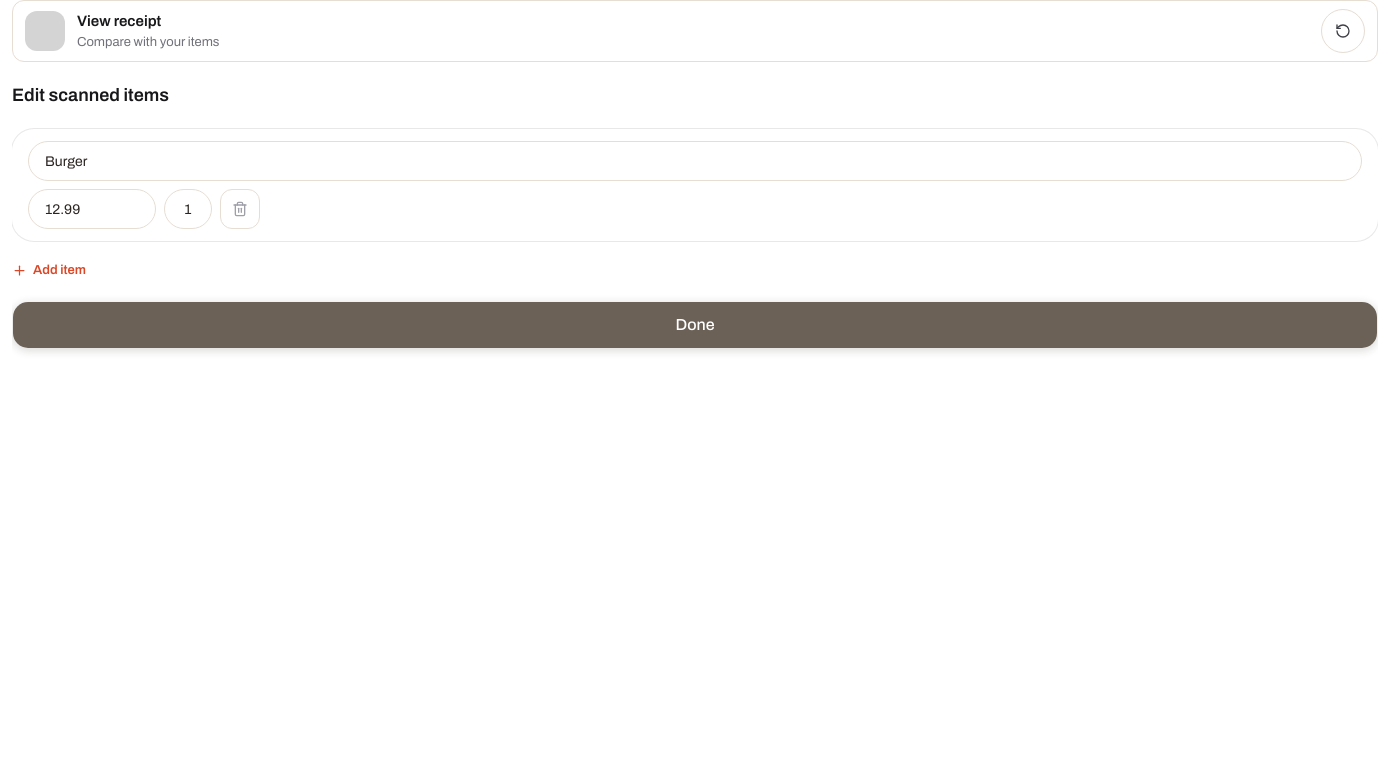
ScanItemsEditor — Retake photo › after an edit, Retake asks first; Cancel keeps the items
The width and height of the screenshot is (1390, 768).
Click the button "Add item": [49, 271] box [12, 261, 86, 280]
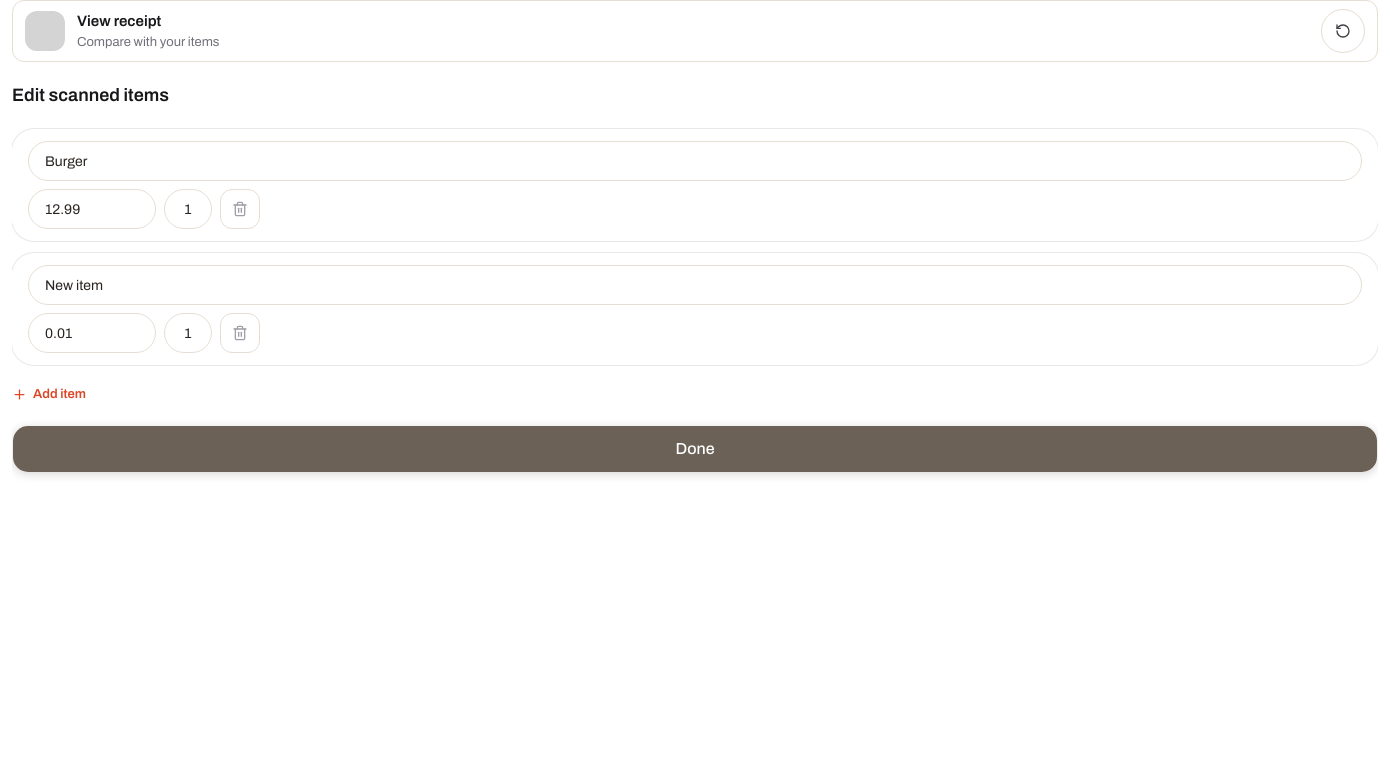
Click the button named "Retake photo": [1343, 31] box [1321, 9, 1365, 53]
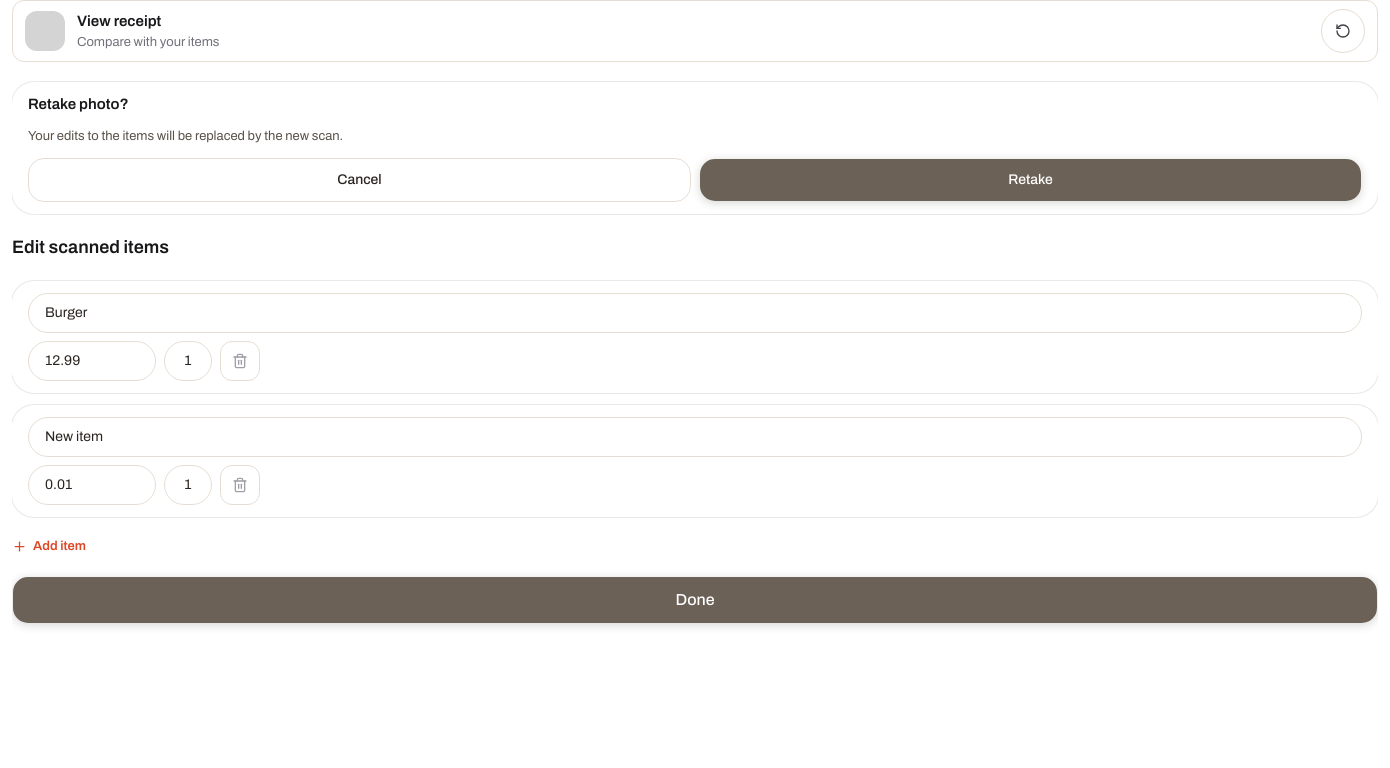
Now the text "Retake photo?" is shown, box [28, 96, 129, 112]
Click the button "Cancel": [360, 180] box [28, 158, 691, 202]
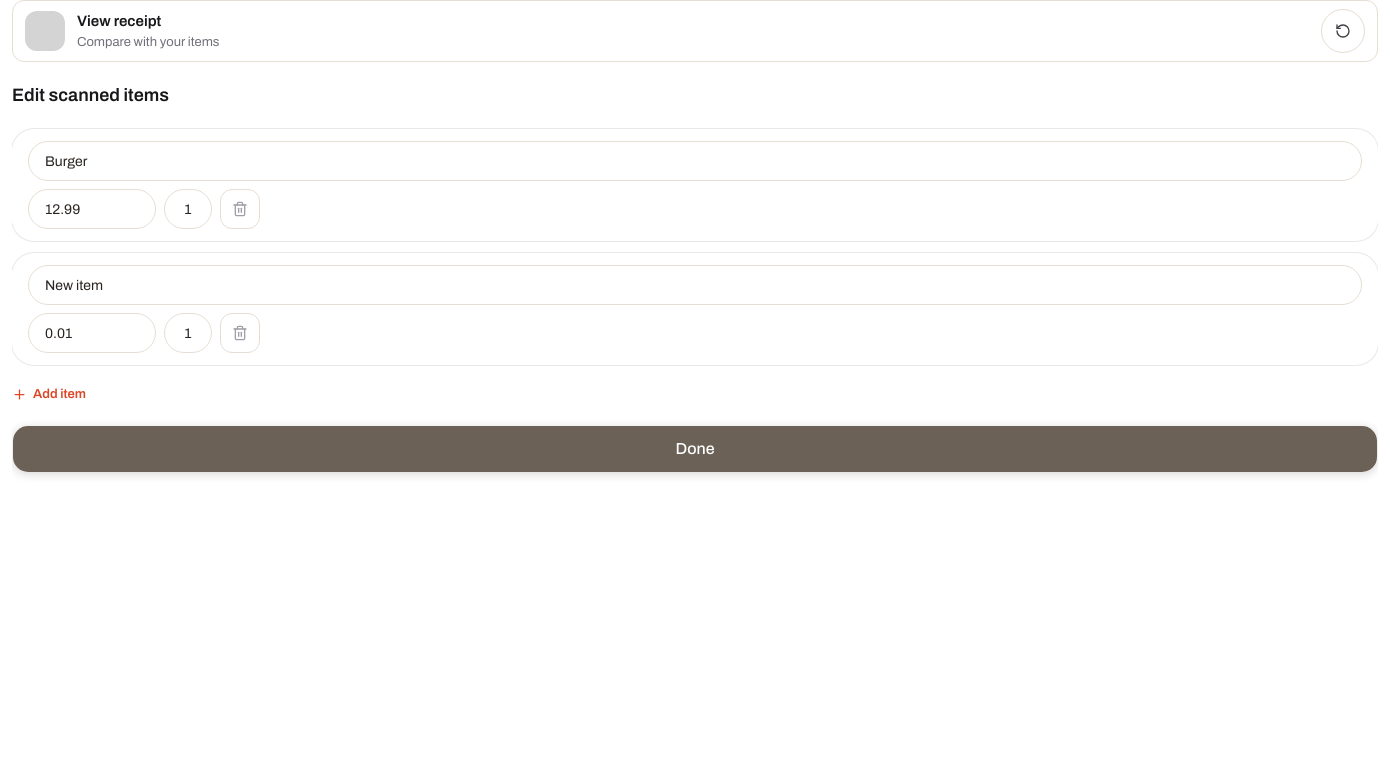
Now the element with test id "scan-review-retake-confirm" is gone
